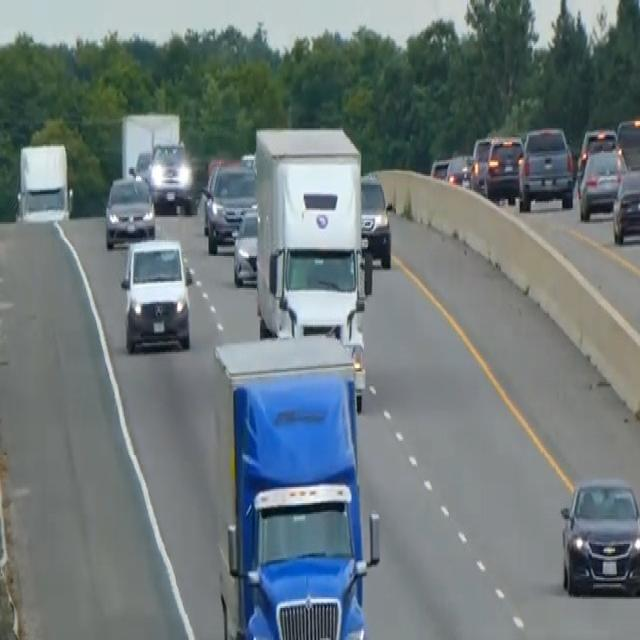car: (558, 473, 639, 597), (203, 158, 257, 252), (518, 123, 575, 210), (103, 169, 156, 247), (577, 144, 627, 220), (148, 139, 193, 213), (359, 170, 392, 268), (484, 133, 524, 203), (576, 125, 617, 183), (231, 205, 259, 286), (611, 166, 639, 246), (468, 133, 492, 192), (616, 116, 639, 170), (444, 151, 472, 187), (429, 154, 450, 180)
lorry: (212, 332, 381, 638), (252, 123, 372, 345)
minivan: (119, 234, 192, 354)
